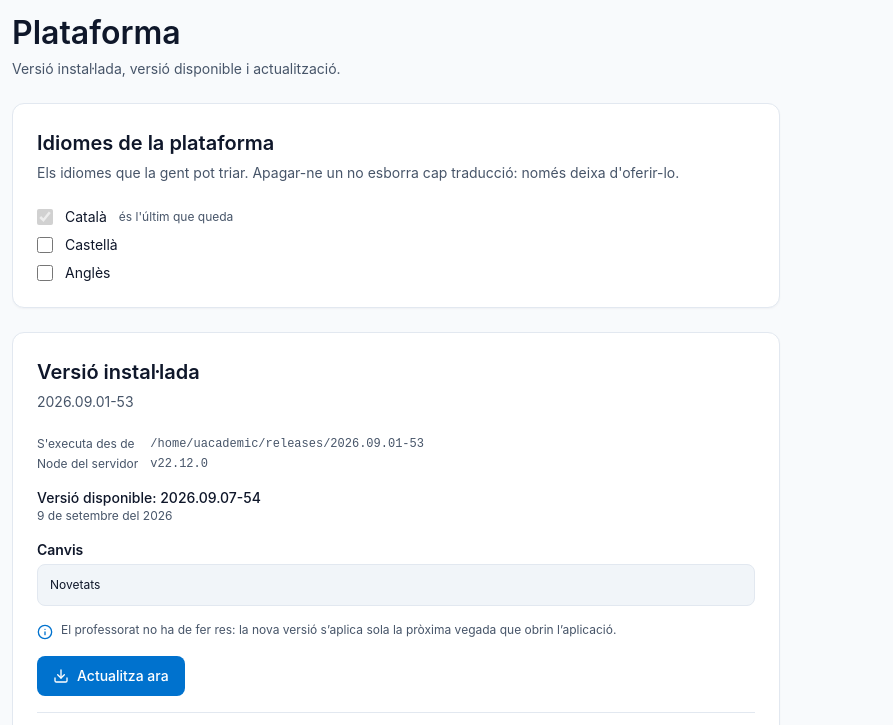
Test: the platform panel › says what went wrong when an update fails, in the words of what refused it
Click the button "Actualitza ara" at (111, 676), box left=37, top=656, right=185, bottom=696
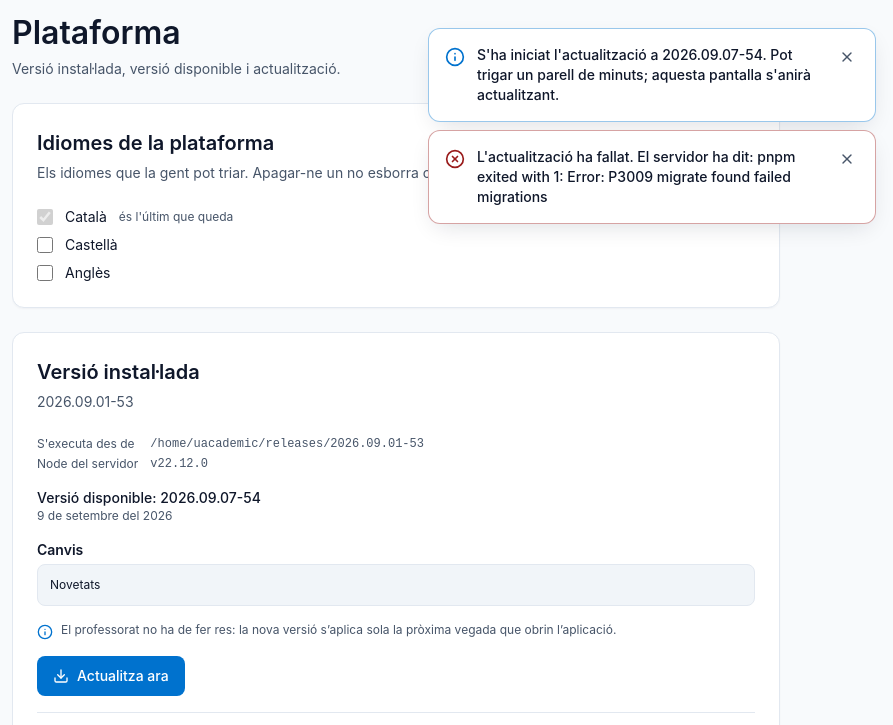
Now the message shows "P3009", box left=477, top=148, right=796, bottom=205
